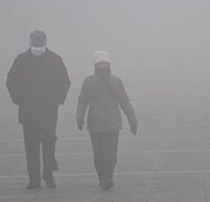person: (5, 29, 72, 189), (77, 50, 138, 192)
